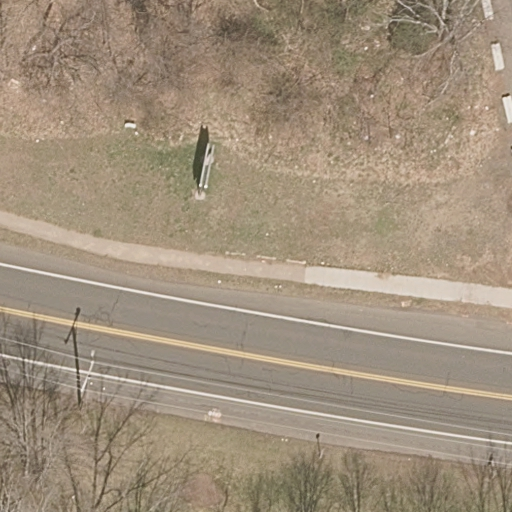DT: (76, 349, 97, 403)
